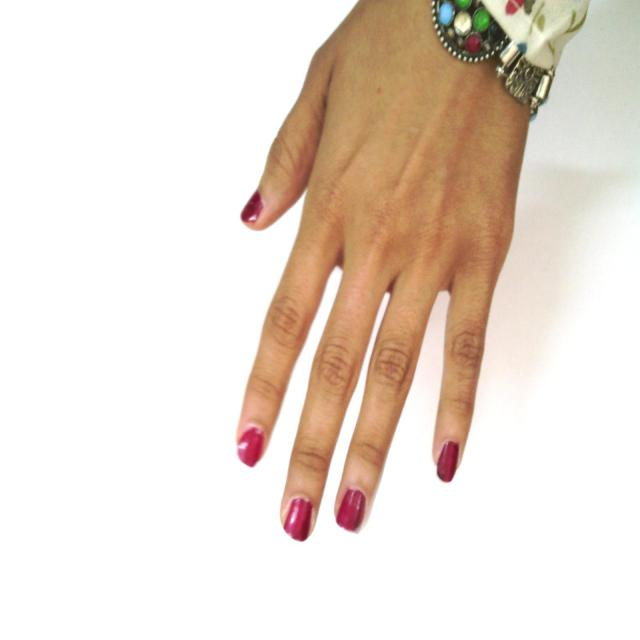hand: (237, 86, 503, 556)
